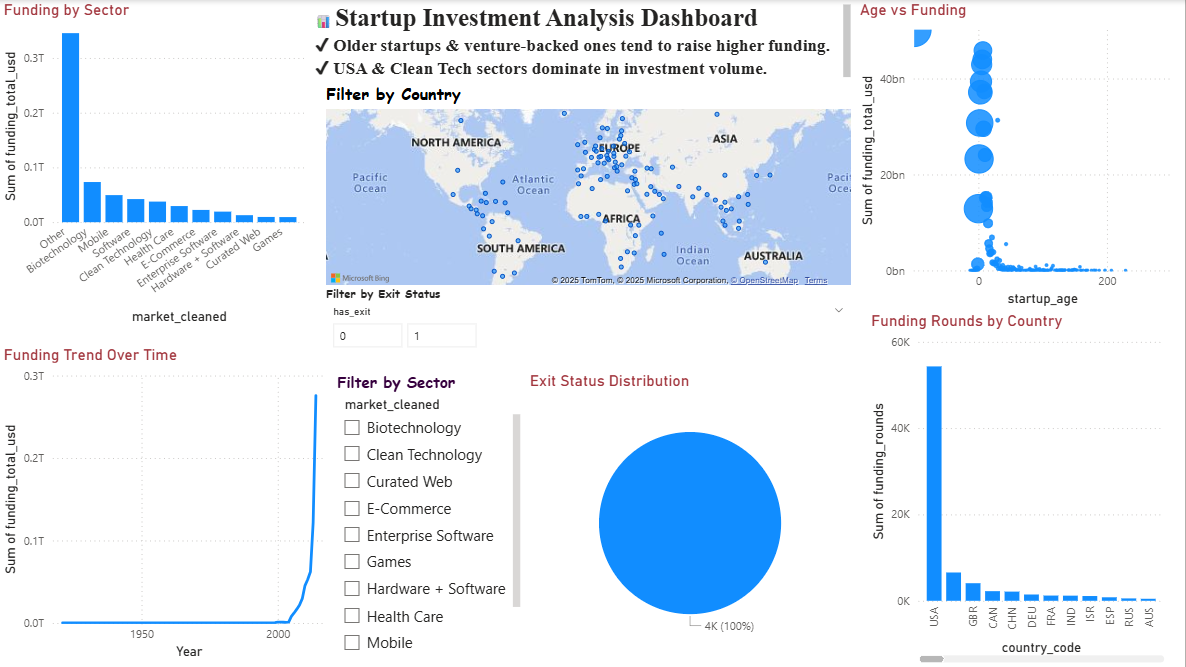

The dashboard page shown, as its layout file describes it:
{"tool":"powerbi","page":{"name":"Page 1","canvas":[1280,720],"ordinal":0},"visuals":[{"type":"clusteredColumnChart","title":"Funding by Sector","fields":{"Category":["startup_merged.market_cleaned"],"Y":["Sum(startup_merged.funding_total_usd)"]},"box":[0,0,335.9,354.8],"z":0},{"type":"lineChart","title":" Funding Trend Over Time","fields":{"Category":["startup_merged.last_funding_at.Variation.Date Hierarchy.Year","startup_merged.last_funding_at.Variation.Date Hierarchy.Quarter","startup_merged.last_funding_at.Variation.Date Hierarchy.Month","startup_merged.last_funding_at.Variation.Date Hierarchy.Day"],"Y":["Sum(startup_merged.funding_total_usd)"]},"box":[0,372.3,360.2,344],"z":1000},{"type":"pieChart","title":"Exit Status Distribution","fields":{"Y":["Sum(startup_merged.has_exit)"]},"box":[568,400.7,356.2,308.9],"z":2000},{"type":"columnChart","title":"Funding Rounds by Country","fields":{"Category":["startup_merged.country_code"],"Y":["Sum(startup_merged.funding_rounds)"]},"box":[936.3,335.9,326.5,384.5],"z":3000},{"type":"scatterChart","title":"Age vs Funding","fields":{"Y":["Sum(startup_merged.funding_total_usd)"],"X":["startup_merged.startup_age"],"Size":["Sum(startup_merged.funding_rounds)"]},"box":[924.1,0,356.2,335.9],"z":4000},{"type":"map","title":"Filter by Country","fields":{"Category":["startup_merged.country_code"]},"box":[348.1,89,576.1,230.7],"z":5000},{"type":"slicer","title":"Filter by Exit Status","fields":{"Values":["startup_merged.has_exit"]},"box":[348.1,307.6,576.1,93.1],"z":6000},{"type":"slicer","title":"Filter by Sector","fields":{"Values":["startup_merged.market_cleaned"]},"box":[360.2,400.7,207.8,308.9],"z":7000},{"type":"textbox","box":[335.9,0,588.2,89],"z":8000}]}

Visuals, with their boxes in screenshot pixels (x1, y1, x2, y2), scaled from the page's 1280x720 canvas onto the 1186x667 screenshot:
"Funding by Sector" clusteredColumnChart: [left=0, top=0, right=311, bottom=329]
" Funding Trend Over Time" lineChart: [left=0, top=345, right=334, bottom=664]
"Exit Status Distribution" pieChart: [left=526, top=371, right=856, bottom=657]
"Funding Rounds by Country" columnChart: [left=868, top=311, right=1170, bottom=666]
"Age vs Funding" scatterChart: [left=856, top=0, right=1185, bottom=311]
"Filter by Country" map: [left=323, top=82, right=856, bottom=296]
"Filter by Exit Status" slicer: [left=323, top=285, right=856, bottom=371]
"Filter by Sector" slicer: [left=334, top=371, right=526, bottom=657]
textbox: [left=311, top=0, right=856, bottom=82]
